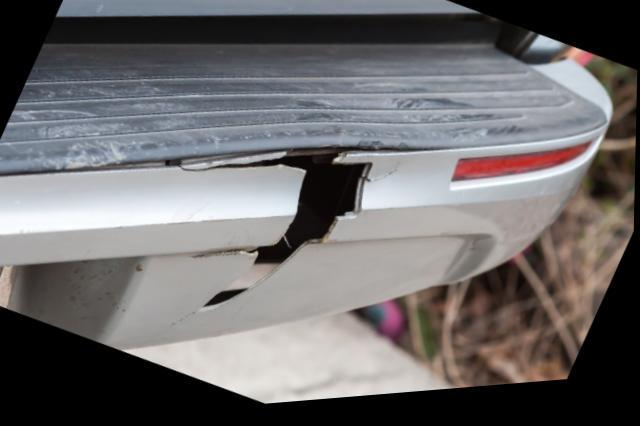crack: (177, 156, 403, 315)
